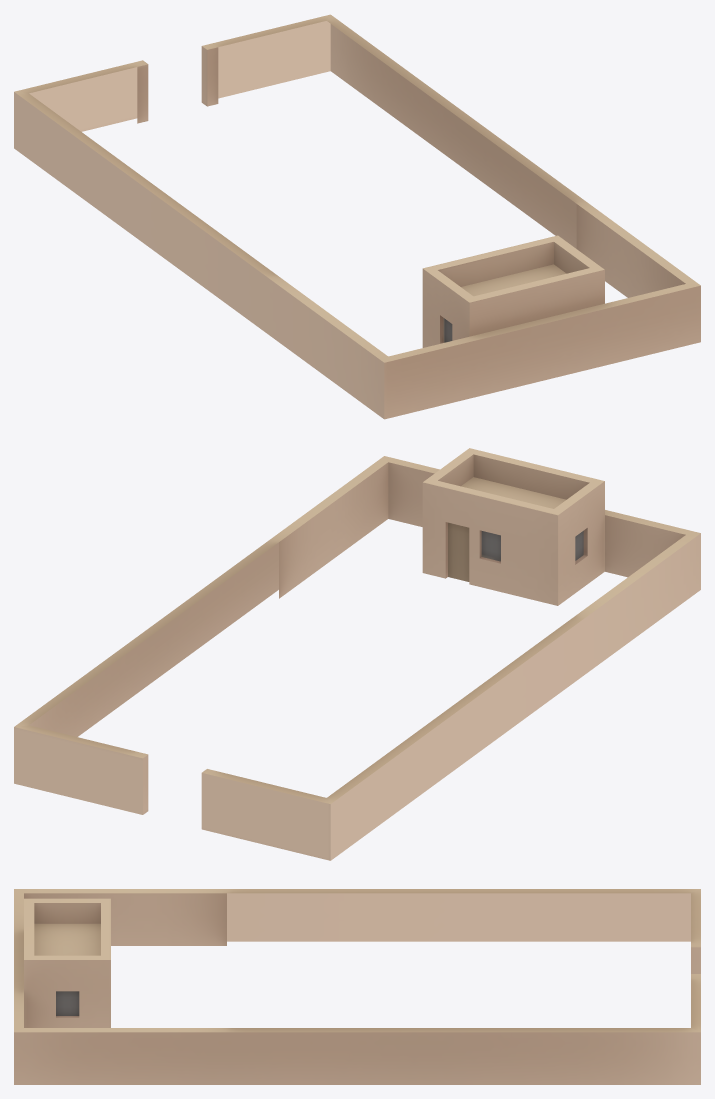
3 views of the same model, one above another, from view 1: azimuth 30°, elevation 25°; view 2: azimuth 150°, elevation 25°; view 3: azimuth 270°, elevation 25° (orthographic). The views are drawn at different scales.
Parts seen in each view (by area): view 1: atturaifworldheritagesite70030076676985002; view 2: atturaifworldheritagesite70030076676985002; view 3: atturaifworldheritagesite70030076676985002.
Part boxes in pixels (left/top/right/bottom): atturaifworldheritagesite70030076676985002: left=14, top=14, right=700, bottom=419; atturaifworldheritagesite70030076676985002: left=14, top=448, right=700, bottom=860; atturaifworldheritagesite70030076676985002: left=14, top=889, right=700, bottom=1084.
Size of the model in its own units: 11.7 by 3.2 by 23.7.
1 material, 1 textured.
